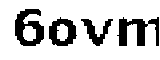6: (12, 4, 45, 48)
m: (115, 12, 160, 51)
o: (48, 16, 78, 49)
v: (80, 14, 112, 47)
